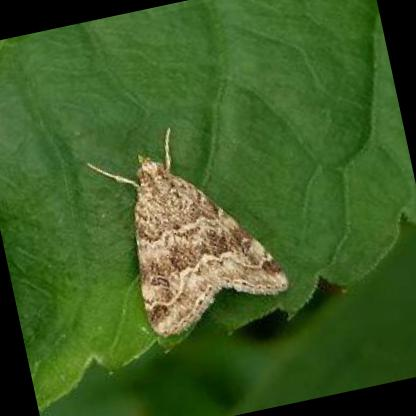Hellula undalis: (69, 121, 300, 357)
